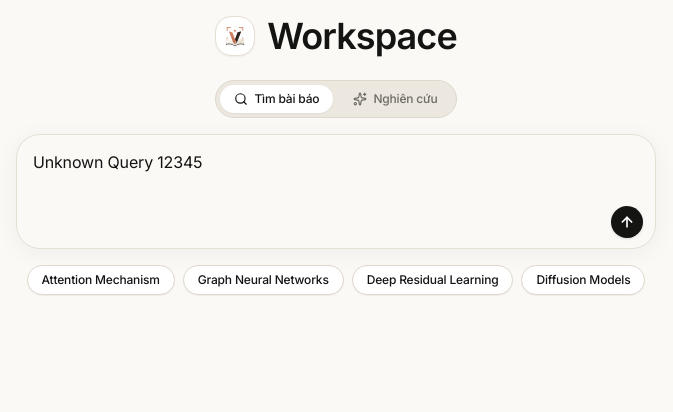
Test: UnifiedHeroWorkspace Component › URL Guardrail & Empty State Handling › displays empty state with reset button when search returns 0 results and resets on click
Press Enter in the text box with placeholder "Tìm kiếm bài báo khoa học", box [33,149,639,193]
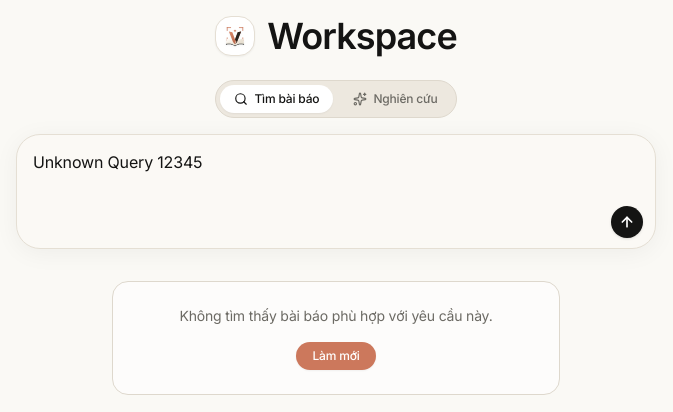
Check: the text "Không tìm thấy bài báo phù hợp với yêu cầu này." is shown, box [179,306,492,326]
Check: the button "Làm mới" is shown
# Click "Làm mới"
Click the button "Làm mới". click: (336, 356)
box: [296,342,376,370]
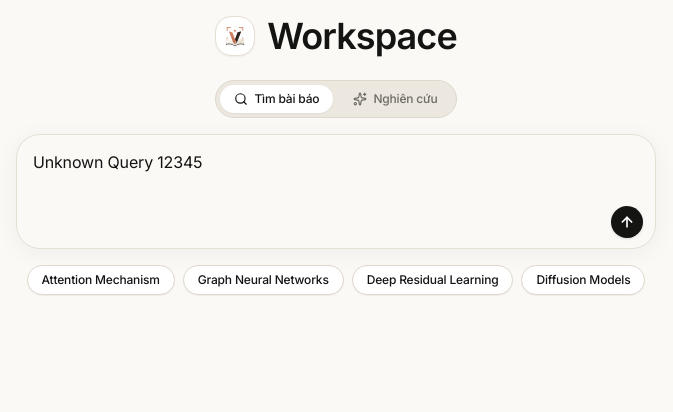
Check: the text "Không tìm thấy bài báo phù hợp với yêu cầu này." is gone
Check: the button "Attention Mechanism" is shown, box [26,265,175,295]
